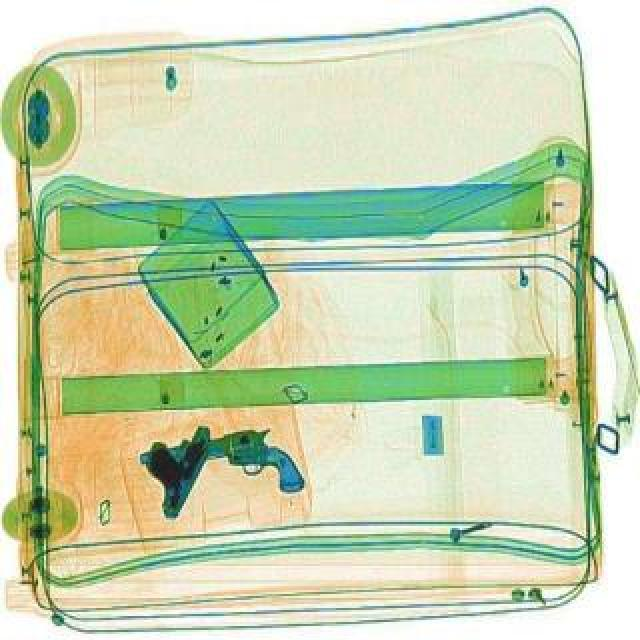gun: (124, 414, 308, 528), (118, 406, 238, 518)
